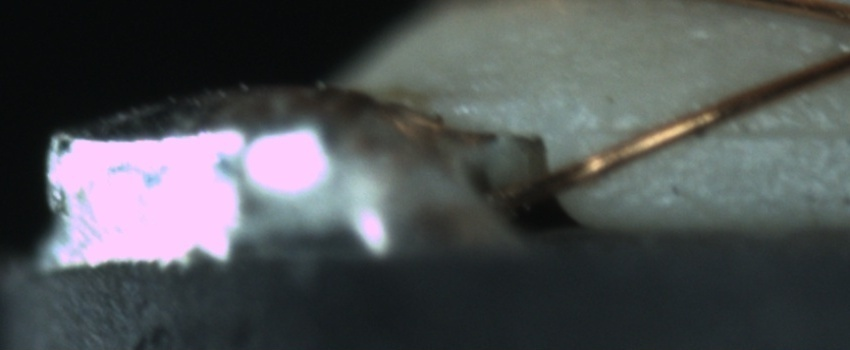DL: (607, 97, 847, 164)
